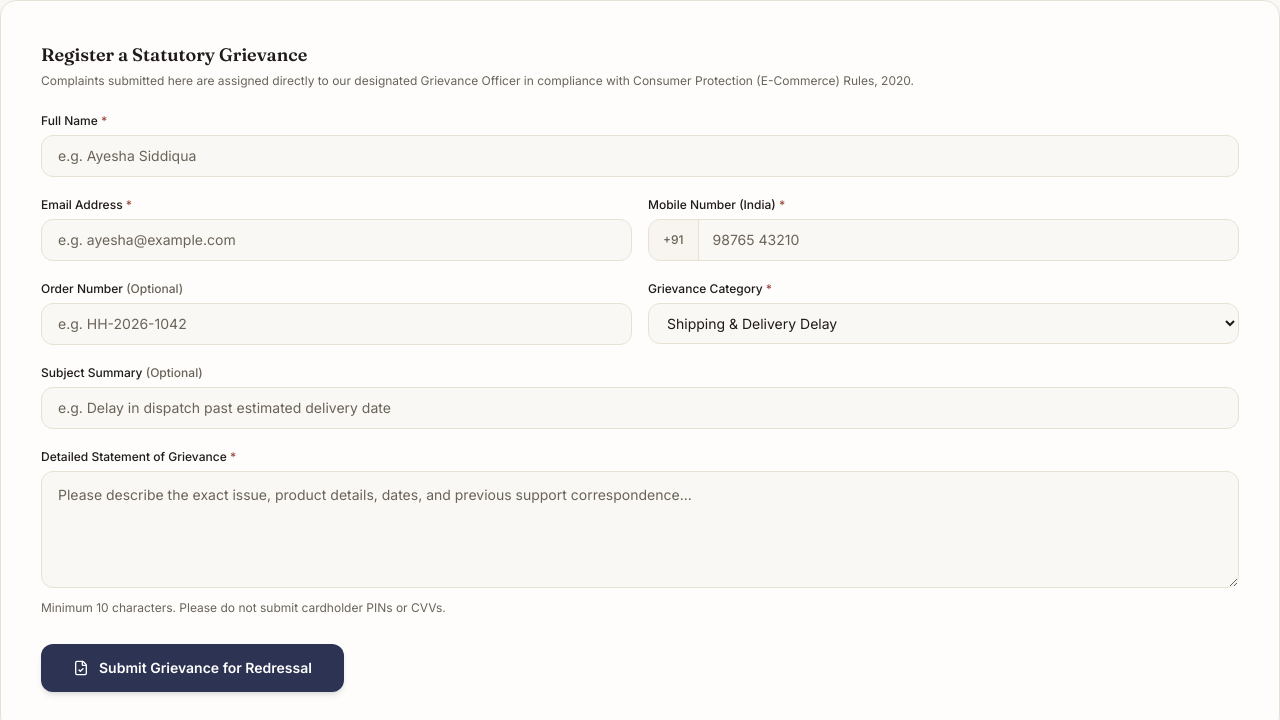
Test case: GrievanceForm Component › displays error banner when API returns server error
The width and height of the screenshot is (1280, 720).
In the field labelled "Full Name *": (640, 156) [41,135,1239,177], type "Zehra Naqvi"
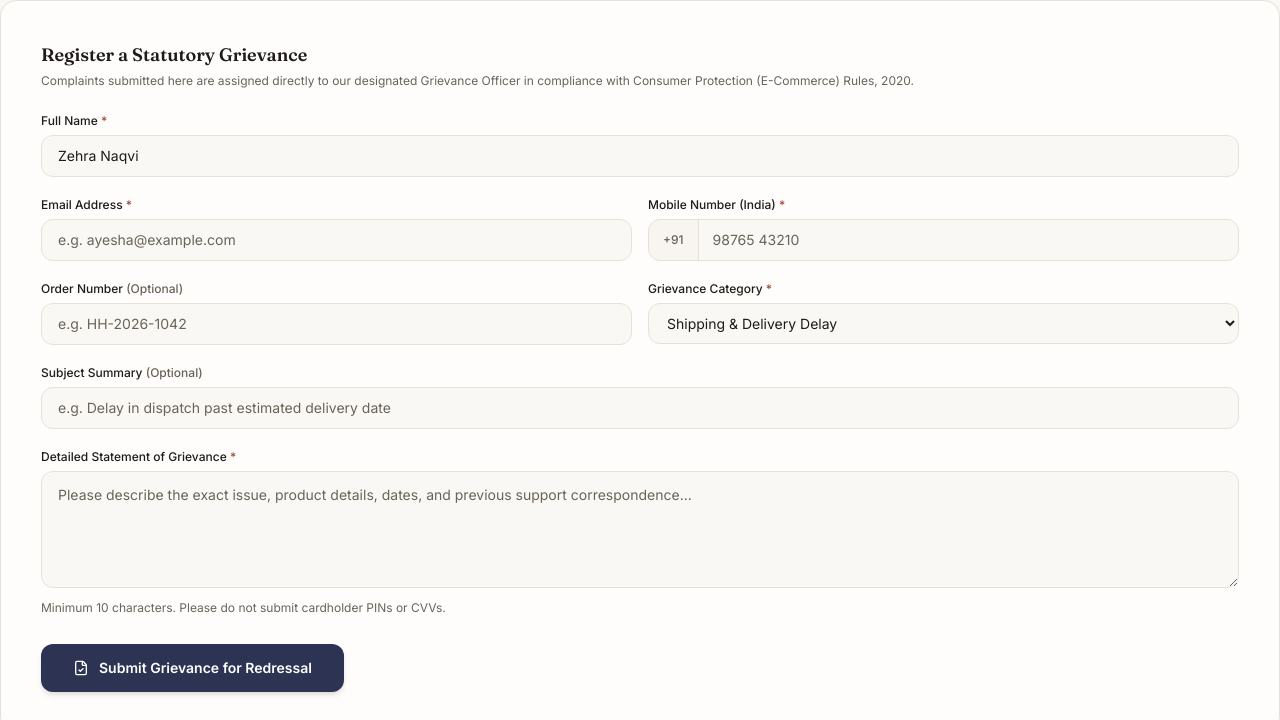
In the field labelled "Email Address *": (336, 240) [41,219,632,261], type "zehra@example.com"
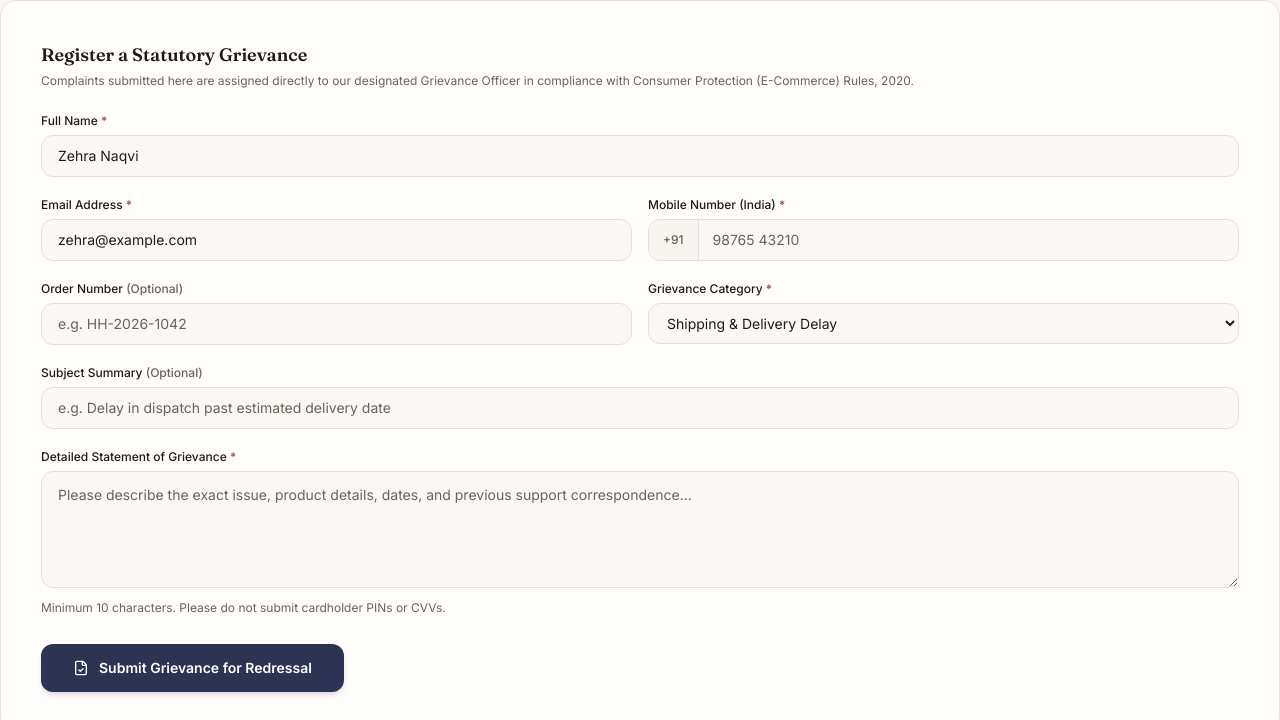
In the field labelled "Mobile Number (India) *": (968, 240) [699,220,1238,260], type "9876543210"
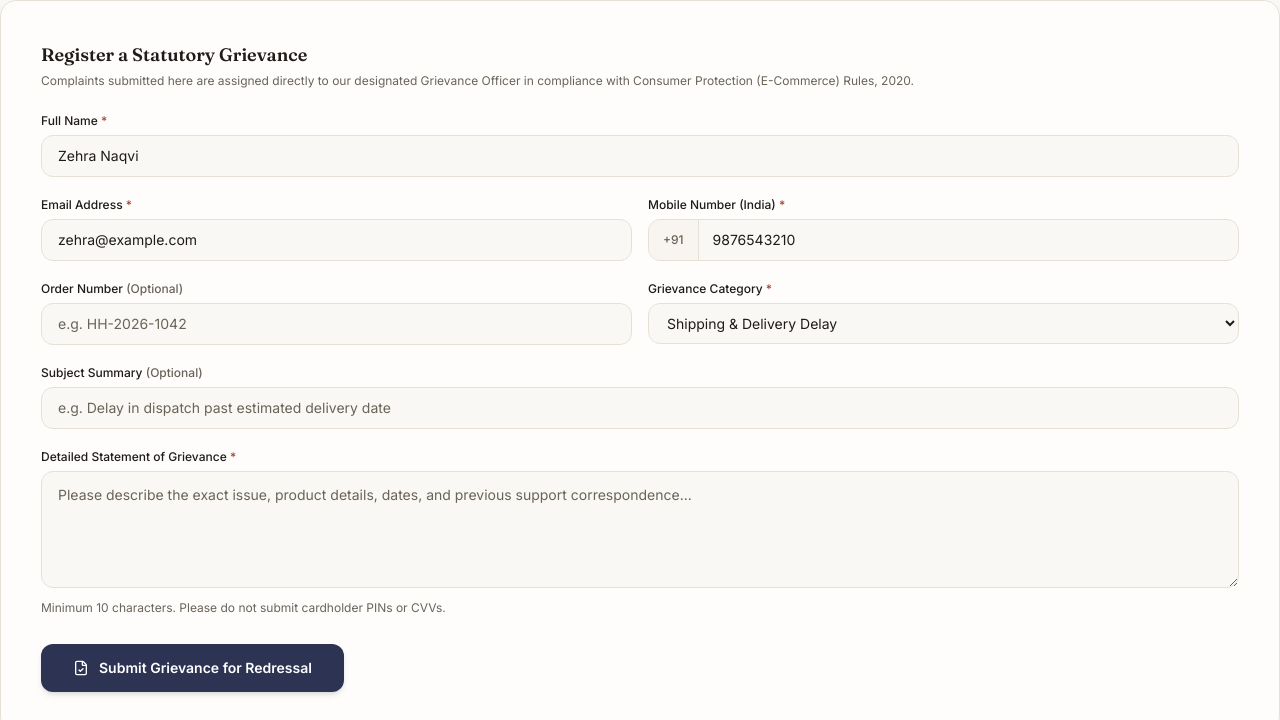
Replace the text in the text box labelled "Detailed Statement of Grievance *" with "This is a valid long grievance description for test.": (640, 530) [41,471,1239,588]
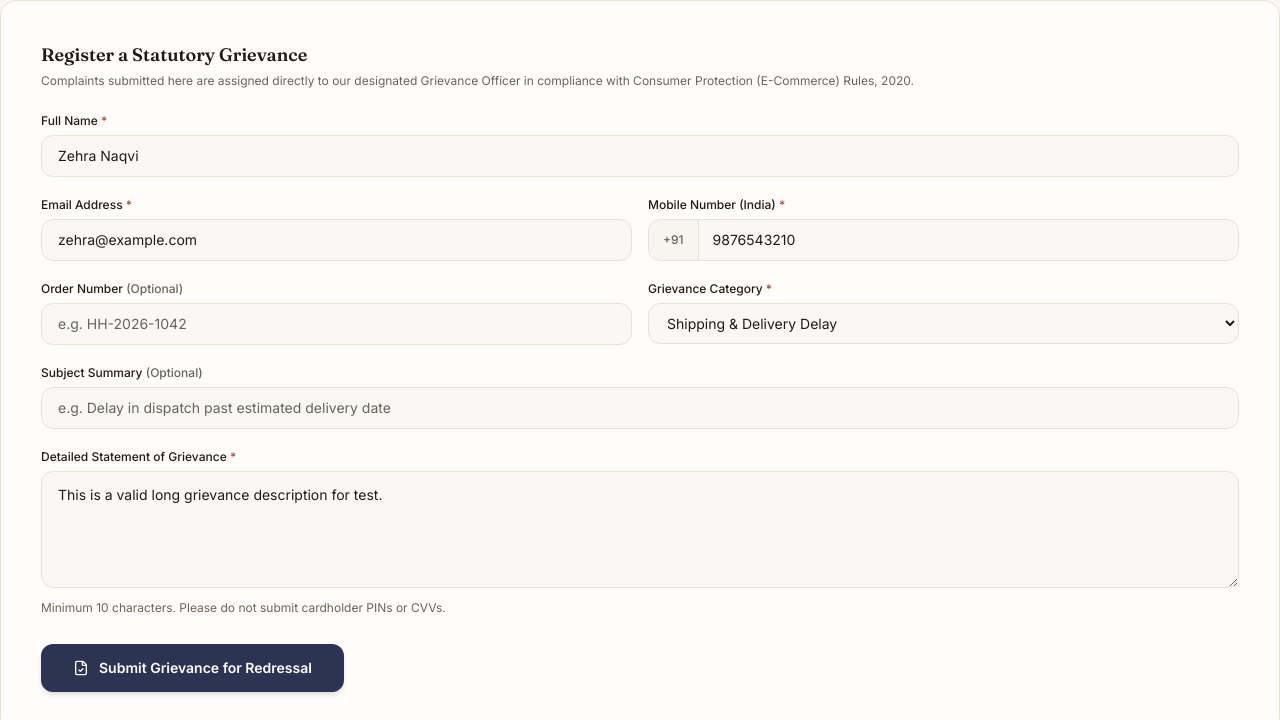
Click the button "Submit Grievance for Redressal": (192, 668) [41,644,344,692]
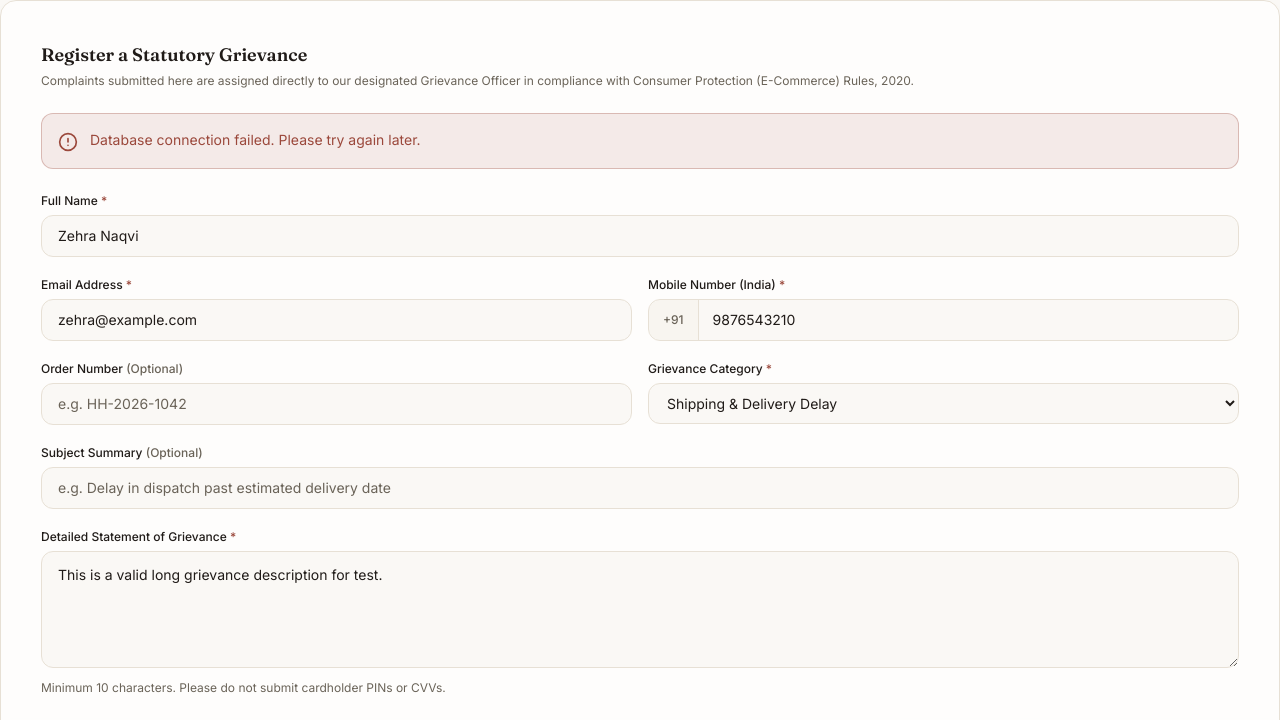
Expected: the text "Database connection failed. Please try again later." is shown, [90,130,421,150]
